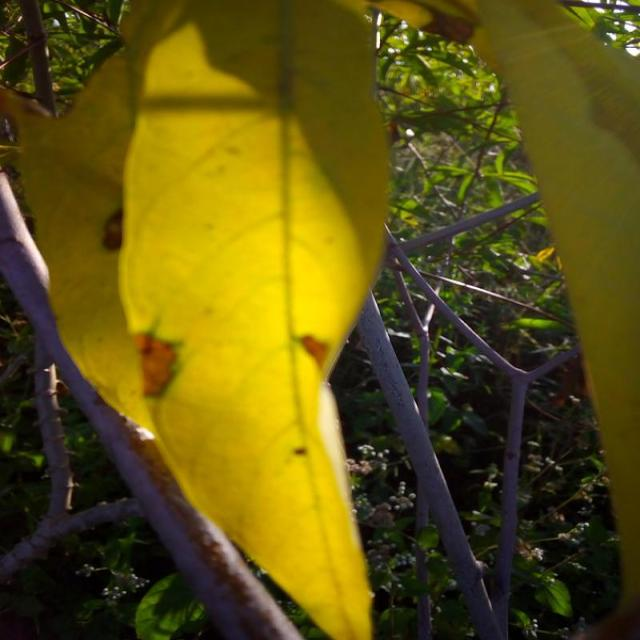cassava leaf: (14, 0, 393, 638)
